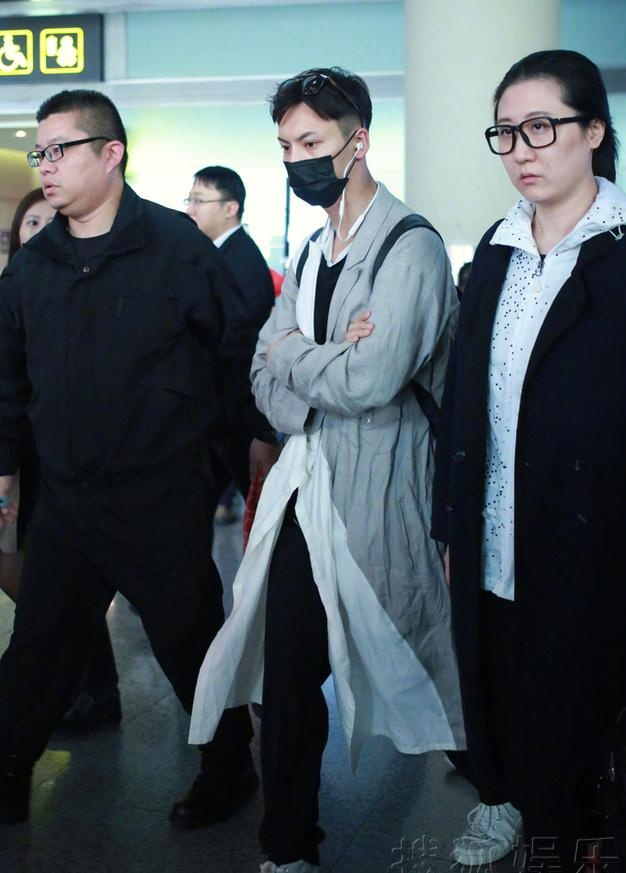Mask: (274, 126, 354, 206)
